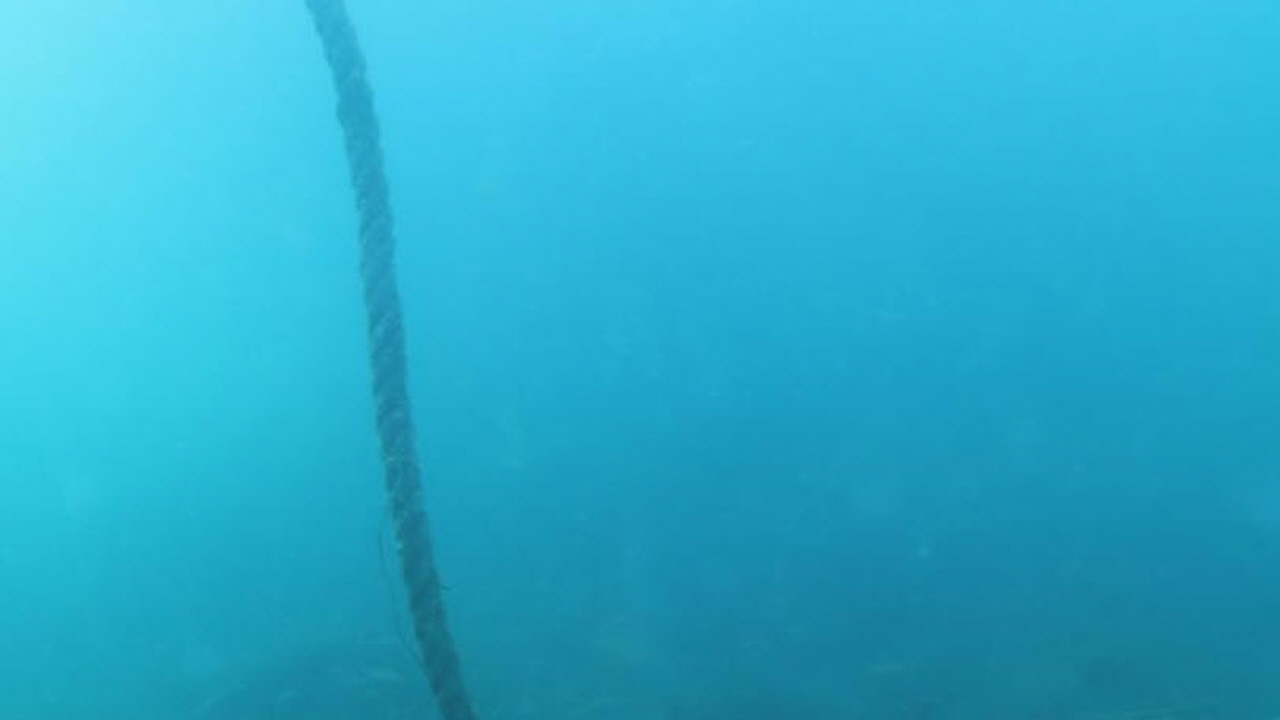rope: (304, 0, 478, 720)
